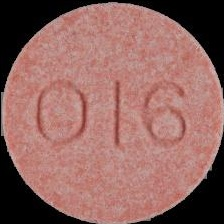49884-660: (0, 0, 224, 224)
